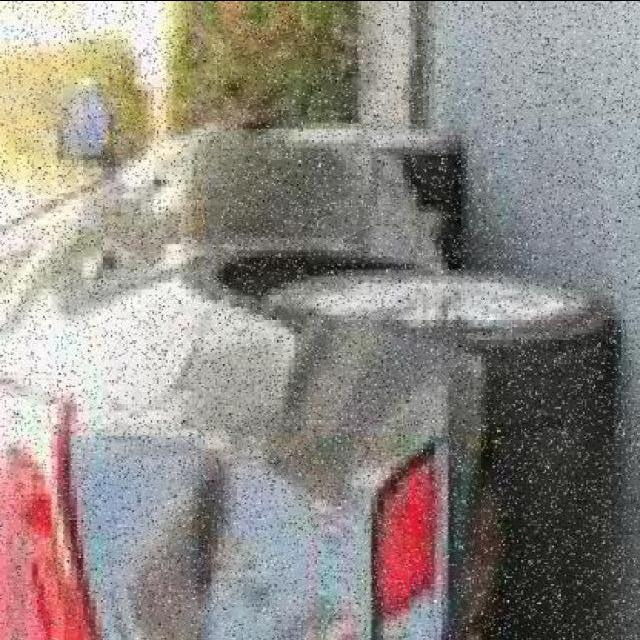rear-bumper-dent: (90, 339, 493, 640)
